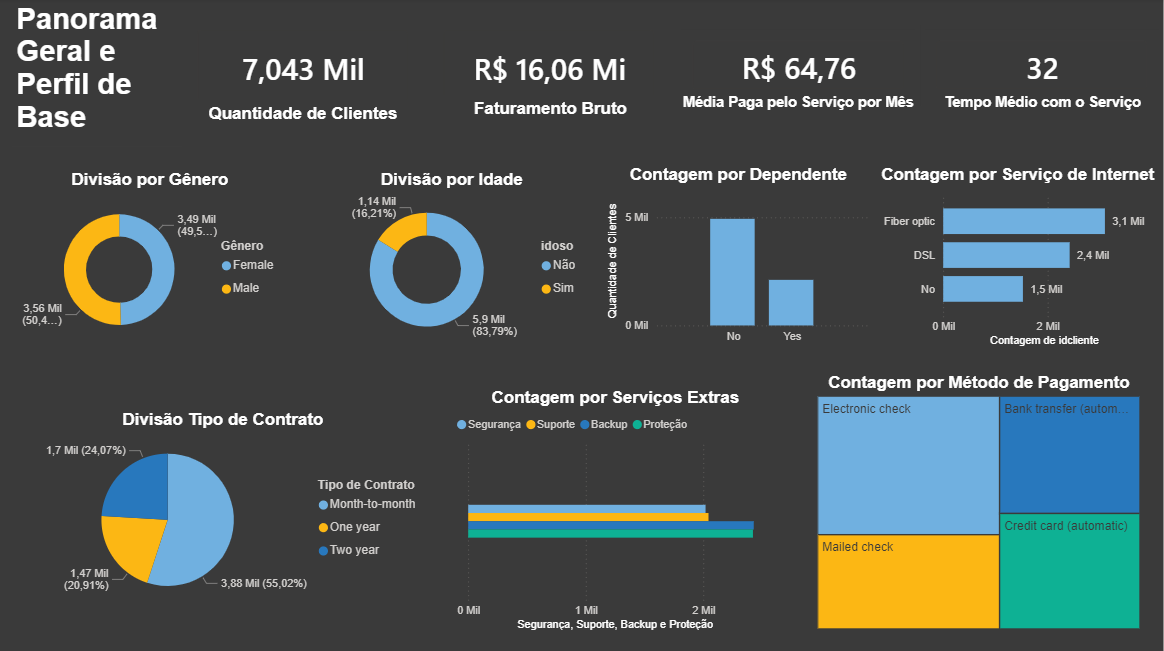

Layout of this report page (visuals, bound fields, positions):
{"tool":"powerbi","page":{"name":"Página 1","canvas":[1280,720],"ordinal":0},"visuals":[{"type":"cardVisual","fields":{"Data":["Count(public tabela.idcliente)"]},"box":[203.4,17.6,265.7,113.4],"z":0},{"type":"cardVisual","fields":{"Data":["Sum(public tabela.total_gasto)"]},"box":[473.5,17.6,265.7,113.4],"z":1000},{"type":"cardVisual","fields":{"Data":["Avg(public tabela.valor_mensal)"]},"box":[746.5,30.2,266.2,87.8],"z":2000},{"type":"donutChart","title":"Divisão por Gênero","fields":{"Y":["CountNonNull(public tabela.idcliente)"],"Series":["public tabela.genero"]},"box":[17.2,187.9,300,200],"z":3000},{"type":"donutChart","title":"Divisão por Idade","fields":{"Y":["CountNonNull(public tabela.idcliente)"],"Series":["public tabela.idoso"]},"box":[341.4,187.9,315.5,200],"z":4000},{"type":"columnChart","title":"Contagem por Dependente","fields":{"Y":["CountNonNull(public tabela.idcliente)"],"Category":["public tabela.dependente"]},"box":[665.5,182.8,296.6,205.2],"z":5000},{"type":"cardVisual","fields":{"Data":["Medidas.tempo médio de casa"]},"box":[1014.1,30.2,266.2,87.8],"z":6000},{"type":"clusteredBarChart","title":"Contagem por Serviço de Internet","fields":{"Category":["public tabela.servico_internet"],"Y":["CountNonNull(public tabela.idcliente)"]},"box":[962.1,182.8,317.2,205.2],"z":7000},{"type":"clusteredBarChart","title":"Contagem por Serviços Extras","fields":{"Y":["Medidas.contagem segurança","Medidas.Contagem Suporte","Medidas.Contagem Backup","Medidas.Contagem Proteção"]},"box":[500,427.6,358.6,270.7],"z":8000},{"type":"pieChart","title":"Divisão Tipo de Contrato","fields":{"Y":["CountNonNull(public tabela.idcliente)"],"Series":["public tabela.tipo_contrato"]},"box":[17.2,451.7,460.3,222.4],"z":9000},{"type":"treemap","title":"Contagem por Método de Pagamento","fields":{"Values":["CountNonNull(public tabela.idcliente)"],"Group":["public tabela.metodo_pagamento"]},"box":[896.6,412.1,363.8,286.2],"z":10000},{"type":"textbox","box":[203.5,110.7,265.5,39.7],"z":11000},{"type":"textbox","box":[746.5,100.2,266.2,61.7],"z":12000},{"type":"textbox","box":[474.2,105.5,265.5,39.7],"z":13000},{"type":"textbox","box":[1015.4,100.2,264.8,63.1],"z":14000},{"type":"textbox","box":[16.5,0,186.6,163.3],"z":15000}]}

Visuals, with their boxes in screenshot pixels (x1, y1, x2, y2), scaled from the page's 1280x720 canvas onto the 1164x651 screenshot:
cardVisual - Count(public tabela.idcliente): [x1=185, y1=16, x2=427, y2=118]
cardVisual - Sum(public tabela.total_gasto): [x1=431, y1=16, x2=672, y2=118]
cardVisual - Avg(public tabela.valor_mensal): [x1=679, y1=27, x2=921, y2=107]
"Divisão por Gênero" donutChart: [x1=16, y1=170, x2=288, y2=351]
"Divisão por Idade" donutChart: [x1=310, y1=170, x2=597, y2=351]
"Contagem por Dependente" columnChart: [x1=605, y1=165, x2=875, y2=351]
cardVisual - Medidas.tempo médio de casa: [x1=922, y1=27, x2=1163, y2=107]
"Contagem por Serviço de Internet" clusteredBarChart: [x1=875, y1=165, x2=1163, y2=351]
"Contagem por Serviços Extras" clusteredBarChart: [x1=455, y1=387, x2=781, y2=631]
"Divisão Tipo de Contrato" pieChart: [x1=16, y1=408, x2=434, y2=609]
"Contagem por Método de Pagamento" treemap: [x1=815, y1=373, x2=1146, y2=631]
textbox: [x1=185, y1=100, x2=426, y2=136]
textbox: [x1=679, y1=91, x2=921, y2=146]
textbox: [x1=431, y1=95, x2=673, y2=131]
textbox: [x1=923, y1=91, x2=1163, y2=148]
textbox: [x1=15, y1=0, x2=185, y2=148]
